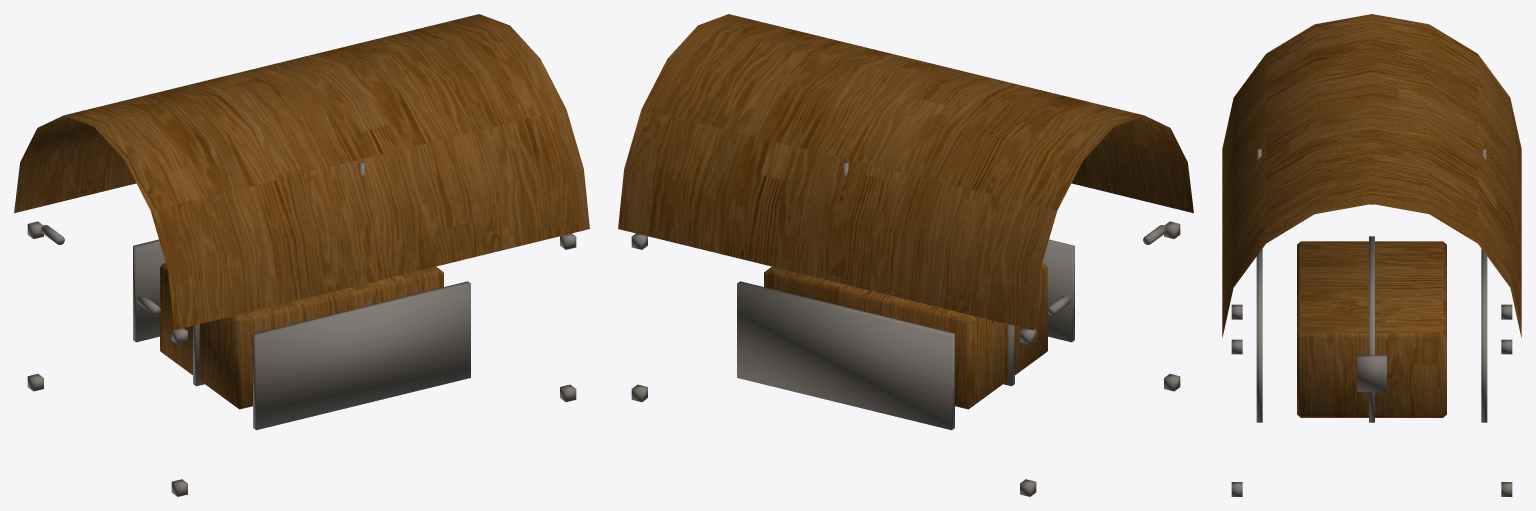
File: treasure_chest.glb
3 views of the same model, side by side, from view 1: azimuth 30°, elevation 25°; view 2: azimuth 150°, elevation 25°; view 3: azimuth 270°, elevation 25° (orthographic). The views are drawn at different scales.
Parts seen in each view (by area): view 1: treasure_chest; view 2: treasure_chest; view 3: treasure_chest.
Part boxes in pixels (box(x1,y1,x2,y2)): treasure_chest: box(14, 14, 589, 496); treasure_chest: box(618, 14, 1193, 496); treasure_chest: box(1222, 14, 1521, 496).
Bounding box in the file's own units: 0.604 × 0.4375 × 0.4.
Materials: 2 (1 with a texture image).
